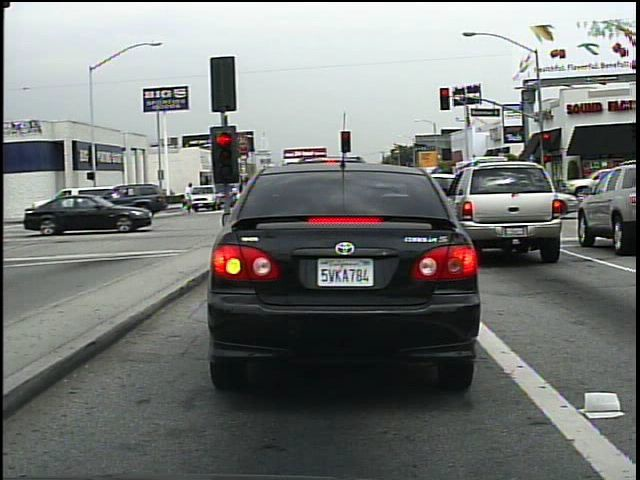person: (177, 177, 199, 216)
